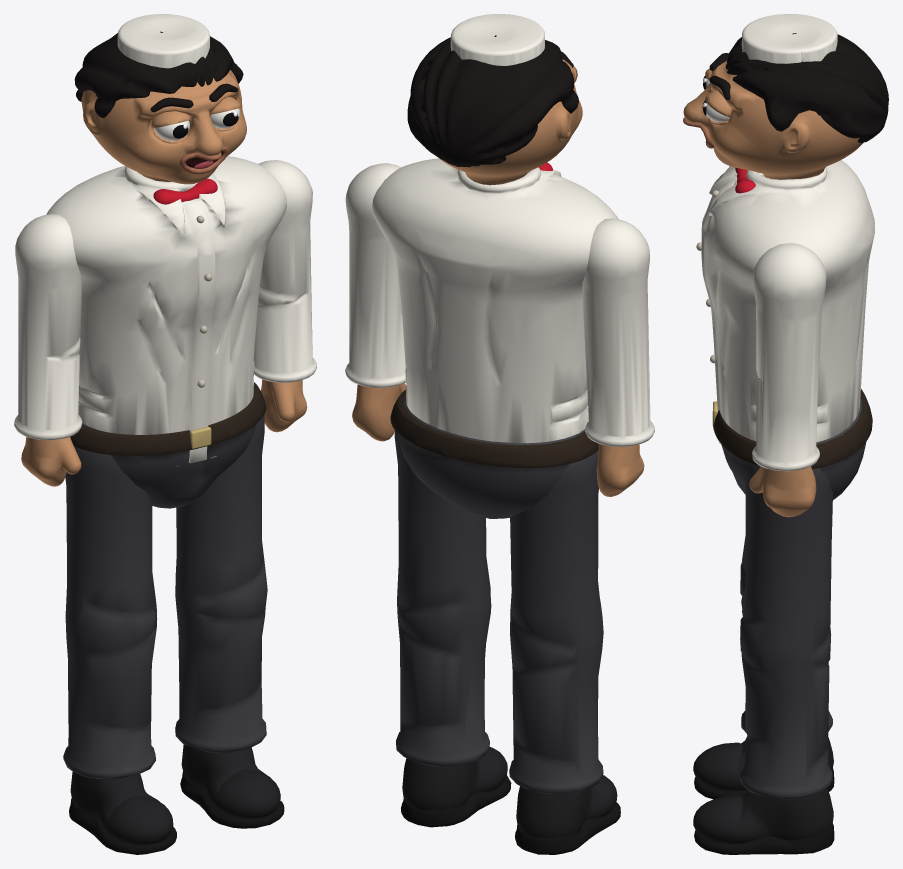
Rendered from vendor.glb.
3 views of the same model, side by side, from view 1: azimuth 30°, elevation 25°; view 2: azimuth 150°, elevation 25°; view 3: azimuth 270°, elevation 25° (orthographic). The views are drawn at different scales.
Visible parts, largest first — view 1: Body_Mesh, LegR_Mesh, LegL_Mesh, Head_Mesh, ArmR_Mesh, ArmL_Mesh, PaperHat, BowTie, Mouth; view 2: Body_Mesh, LegR_Mesh, LegL_Mesh, Head_Mesh, ArmR_Mesh, ArmL_Mesh, PaperHat; view 3: LegL_Mesh, Body_Mesh, Head_Mesh, ArmL_Mesh, PaperHat, LegR_Mesh.
Part boxes in pixels (x1,y1,x2,y2): Body_Mesh: (46, 156, 286, 508); LegR_Mesh: (63, 446, 176, 854); LegL_Mesh: (175, 414, 284, 828); Head_Mesh: (74, 31, 246, 184); ArmR_Mesh: (14, 214, 82, 486); ArmL_Mesh: (254, 160, 316, 432); PaperHat: (117, 14, 209, 68); BowTie: (153, 178, 217, 204); Mouth: (179, 146, 228, 174); Body_Mesh: (372, 158, 618, 518); LegR_Mesh: (509, 450, 620, 854); LegL_Mesh: (394, 430, 511, 827); Head_Mesh: (407, 35, 582, 185); ArmR_Mesh: (582, 218, 654, 496); ArmL_Mesh: (345, 163, 406, 441); PaperHat: (450, 14, 544, 65); LegL_Mesh: (693, 463, 834, 854); Body_Mesh: (696, 160, 874, 499); Head_Mesh: (683, 33, 888, 179); ArmL_Mesh: (749, 243, 826, 517); PaperHat: (741, 14, 837, 63); LegR_Mesh: (693, 497, 834, 799).
Size of the model in its own units: 0.7187 by 1.81 by 0.4317.
